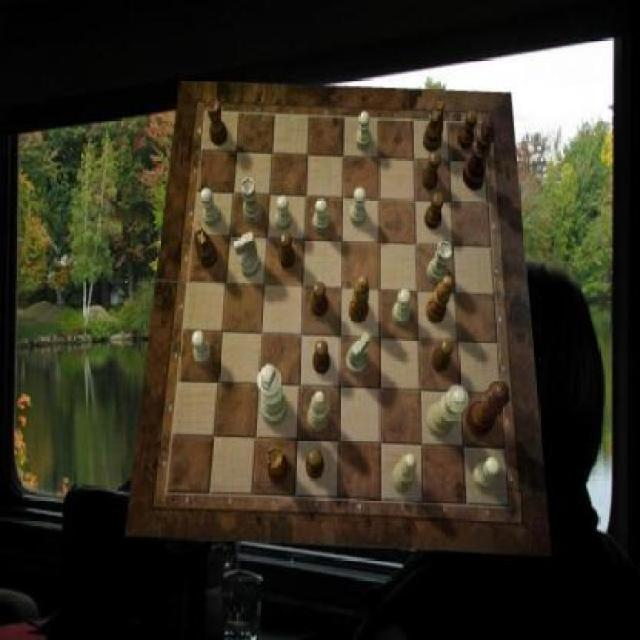bishop: (426, 277, 453, 323), (349, 277, 370, 323)
black-bishop: (463, 116, 496, 192)
black-king: (192, 220, 218, 268), (423, 100, 445, 152)
black-knight: (432, 339, 455, 373), (424, 192, 444, 230), (422, 151, 441, 191), (458, 111, 478, 149), (280, 232, 297, 270), (306, 449, 326, 480), (314, 339, 331, 373), (311, 282, 328, 316)
black-pawn: (468, 380, 510, 438)
black-queen: (206, 99, 227, 146), (266, 446, 289, 484)
black-rook: (306, 391, 329, 433), (392, 454, 416, 494)
white-bishop: (257, 365, 288, 426)
white-king: (234, 232, 260, 278), (348, 332, 370, 375)
white-knight: (472, 457, 500, 489), (200, 188, 221, 226), (192, 331, 212, 365), (349, 188, 366, 226), (356, 111, 372, 151), (394, 290, 411, 326), (314, 199, 331, 233), (276, 195, 292, 230)
white-pawn: (426, 384, 469, 438)
white-queen: (428, 242, 452, 286), (242, 177, 262, 223)
